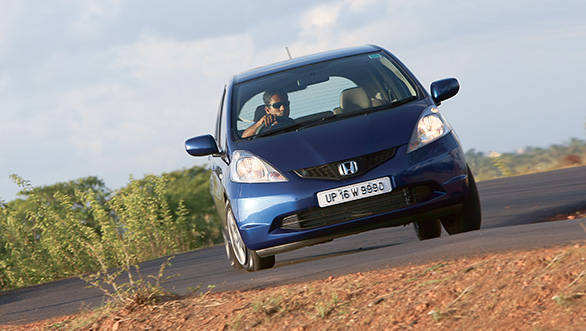Car: (187, 39, 492, 247)
